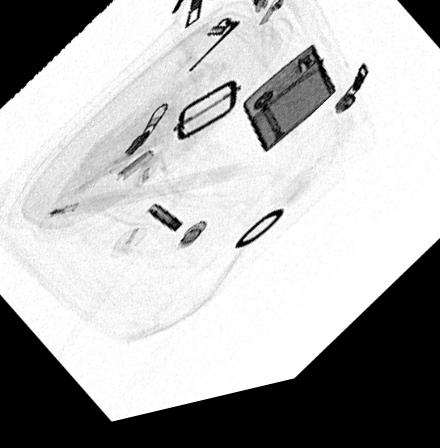Lighter: (240, 57, 334, 167)
